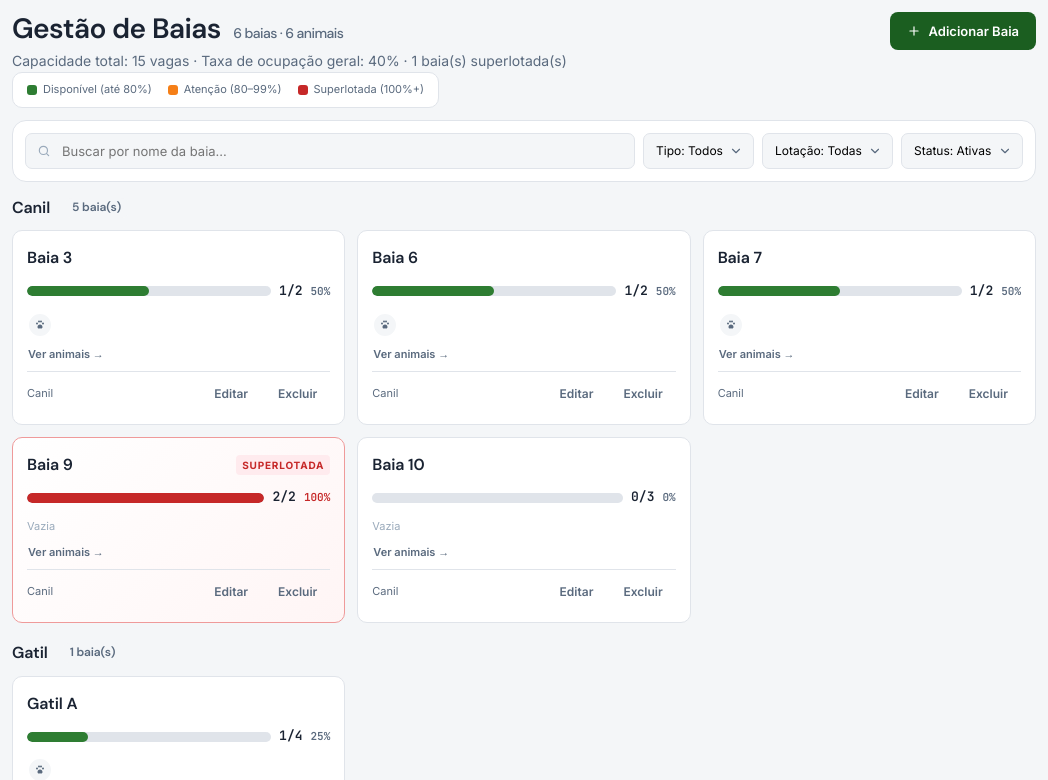
Test: GestaoBaias › filtra por estado de lotação
The image size is (1048, 780).
expect the text "Baia 3" is shown: met, box [27,245,72,271]
Select "Superlotada" in the dropdown named "filtrar por lotação" at (828, 151), box [762,133,893,169]
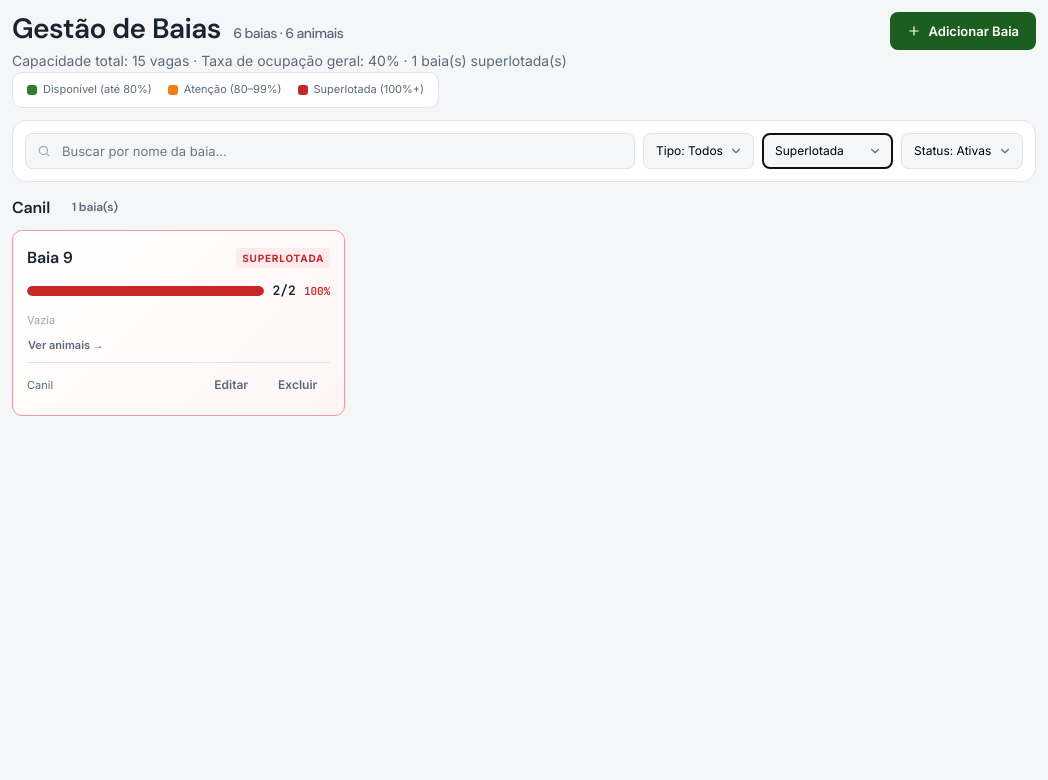
expect the text "Baia 9" is shown: met, box [27,245,73,271]
expect the text "Baia 3" is gone: met
